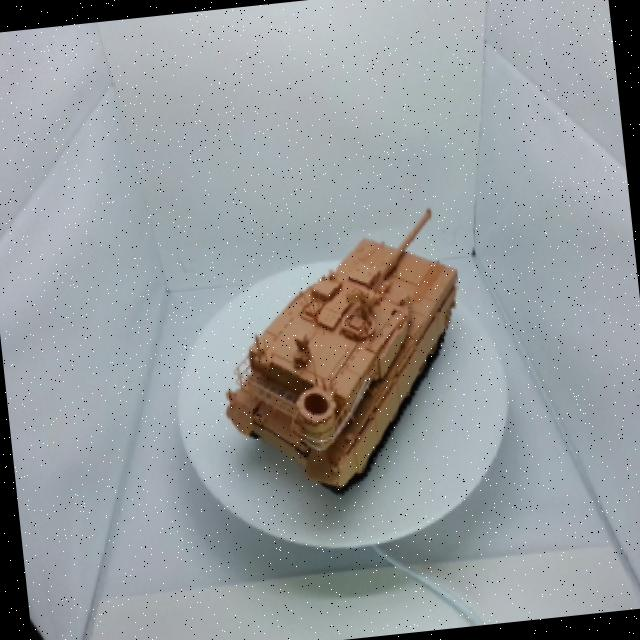korea tank: (188, 182, 515, 516)
